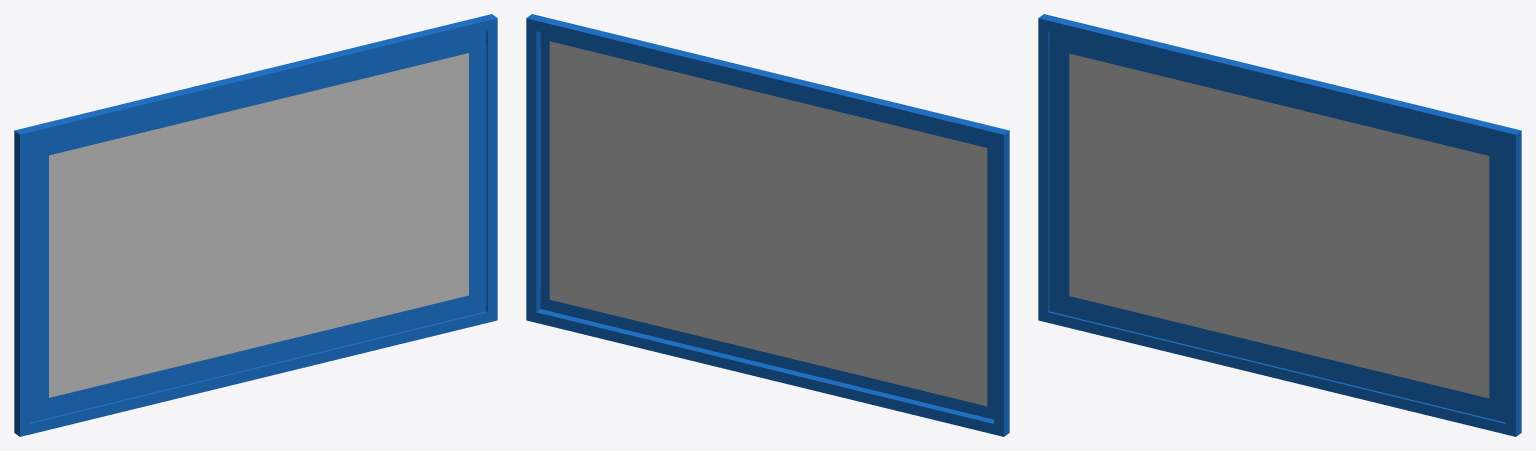
The model's file is SM_billboard.fbx.
3 renders of one model, left to right at view 1: azimuth 30°, elevation 25°; view 2: azimuth 150°, elevation 25°; view 3: azimuth 330°, elevation 25°, orthographic.
Parts seen in each view (by area): view 1: Cube_14; view 2: Cube_14; view 3: Cube_14.
Boxes of the visible parts, left/top/right/bottom form: Cube_14: left=14, top=14, right=497, bottom=436; Cube_14: left=526, top=14, right=1009, bottom=436; Cube_14: left=1038, top=14, right=1521, bottom=436.
Bounding box in the file's own units: 474 × 287 × 10.
